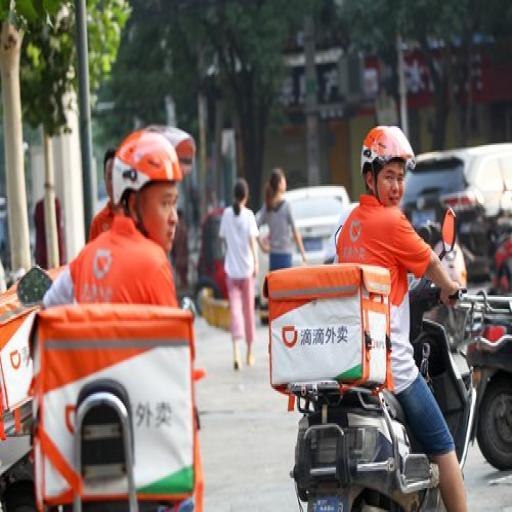helmet: (312, 100, 440, 510), (79, 104, 206, 485)
